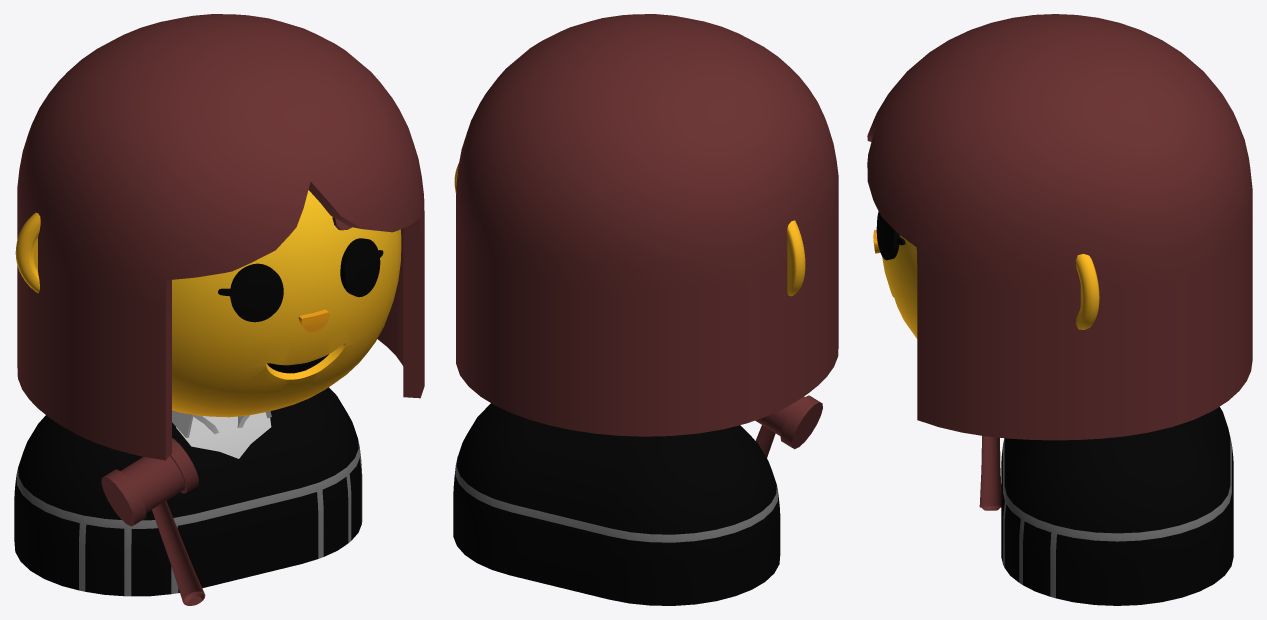
The model's file is woman_judge.glb.
The picture shows the model from 3 angles, left to right: view 1: azimuth 30°, elevation 25°; view 2: azimuth 150°, elevation 25°; view 3: azimuth 270°, elevation 25°; orthographic projection. The views are drawn at different scales.
Visible parts, largest first — view 1: Roundcube.088, Sphere.045, Roundcube.087, Cylinder.081, Circle.584, Cylinder.080, Plane.040; view 2: Roundcube.088, Sphere.045, Cylinder.081, Cylinder.080; view 3: Roundcube.088, Sphere.045, Roundcube.087, Cylinder.081, Cylinder.080, Circle.584.
Boxes of the visible parts, <box> form: Roundcube.088: <box>17,14,424,460</box>; Sphere.045: <box>14,387,362,596</box>; Roundcube.087: <box>172,190,401,417</box>; Cylinder.081: <box>101,438,205,605</box>; Circle.584: <box>230,238,380,322</box>; Cylinder.080: <box>15,212,40,293</box>; Plane.040: <box>172,410,271,437</box>; Roundcube.088: <box>456,14,838,436</box>; Sphere.045: <box>453,403,780,605</box>; Cylinder.081: <box>755,395,822,457</box>; Cylinder.080: <box>454,163,805,296</box>; Roundcube.088: <box>867,14,1252,440</box>; Sphere.045: <box>1001,406,1233,605</box>; Roundcube.087: <box>882,235,917,338</box>; Cylinder.081: <box>979,436,1001,510</box>; Cylinder.080: <box>1075,254,1099,329</box>; Circle.584: <box>876,211,899,260</box>.
Size of the model in its own units: 1.76 by 2.39 by 1.66.
1 material, 1 textured.
